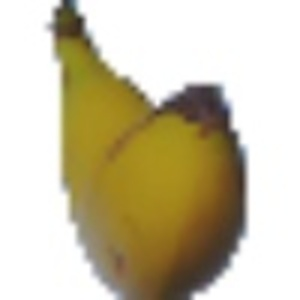banana: (49, 3, 251, 298)
